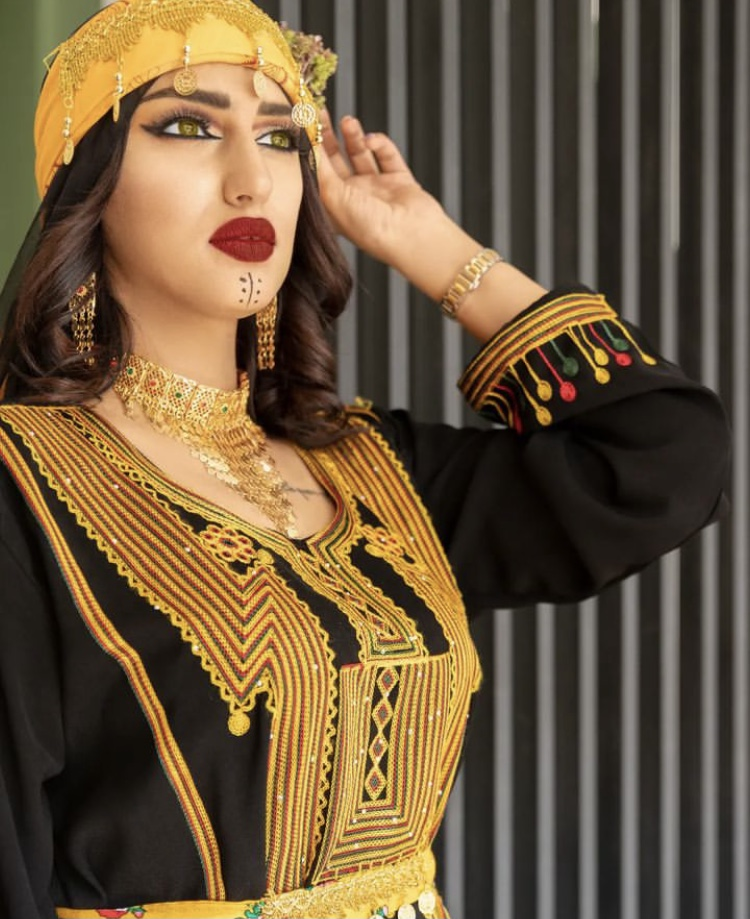Saudi_Founding_Day: (4, 1, 732, 919)
